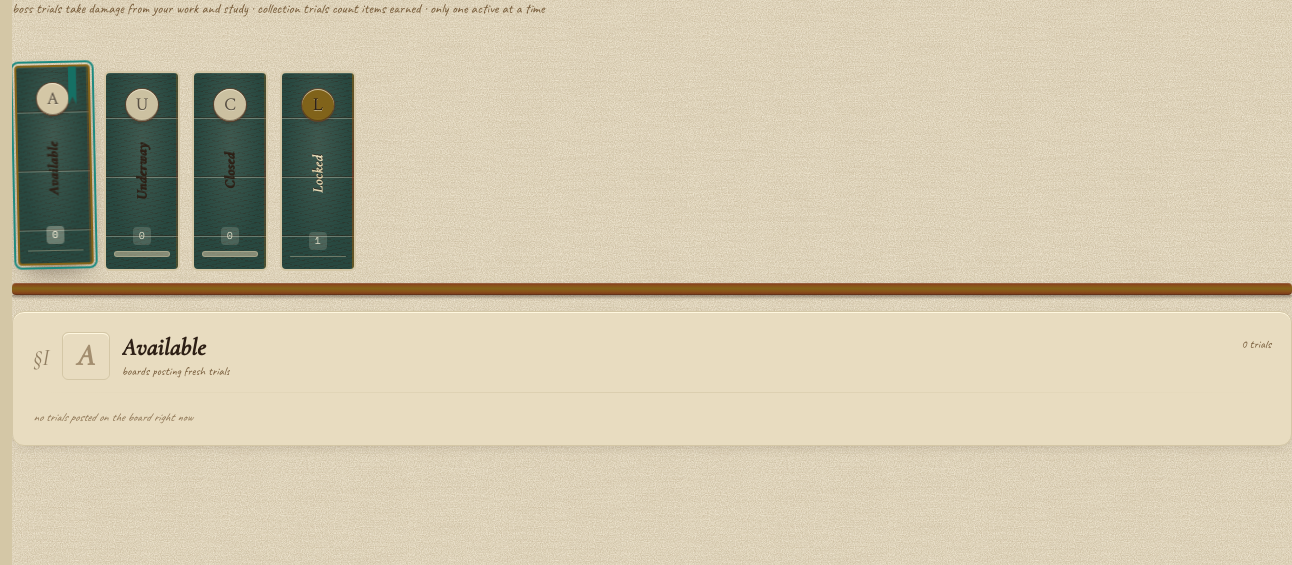
Trials (illuminated codex) › routes a badge-gated available quest into the Locked chapter
Click the tab "L Locked 1" at {"x": 318, "y": 171}, box [280,71,356,271]
(page scrolled)
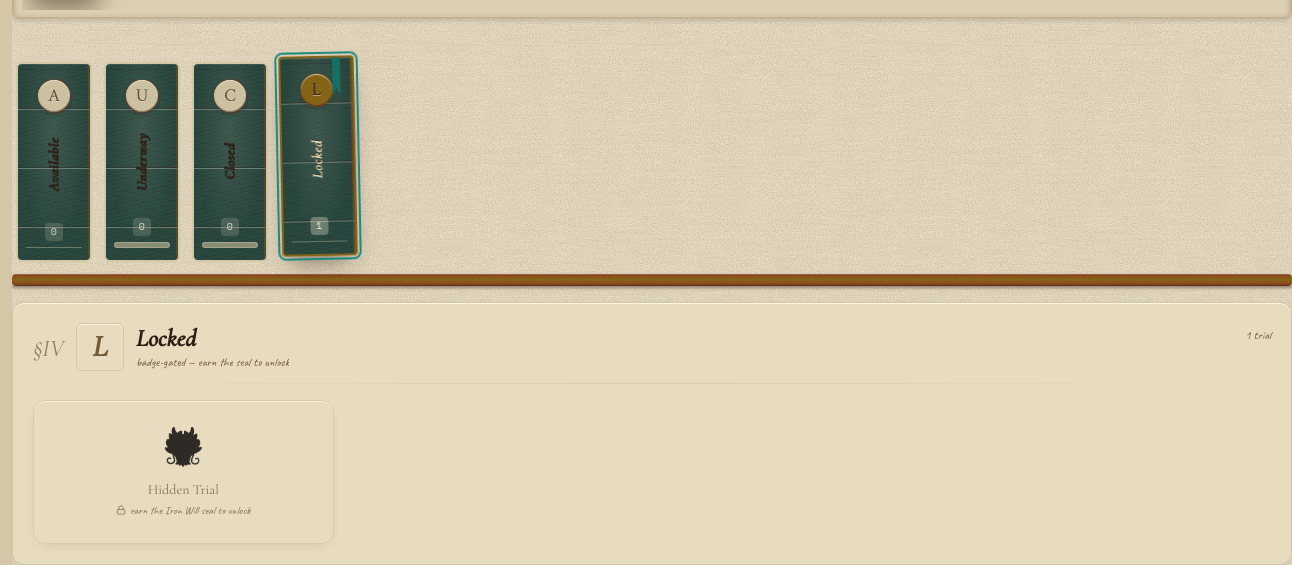
Expected: the text "Hidden Trial" is shown, [148,481,219,498]
Expected: the text "earn the Iron Will seal to unlock" is shown, [116,502,250,518]
